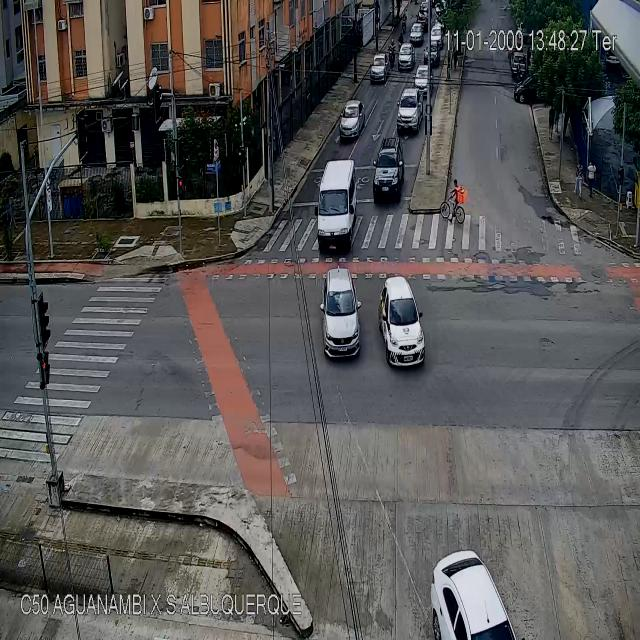Car: (430, 548, 521, 640), (378, 275, 427, 367), (322, 266, 362, 359), (316, 158, 356, 246), (371, 140, 405, 202), (396, 86, 422, 130), (340, 101, 364, 137), (414, 64, 431, 96), (371, 50, 386, 82), (398, 44, 412, 70), (425, 43, 438, 71), (431, 25, 444, 51), (416, 9, 429, 28), (410, 24, 421, 43), (420, 2, 430, 15)
Motorcycle: (388, 39, 397, 68), (402, 13, 406, 33)
